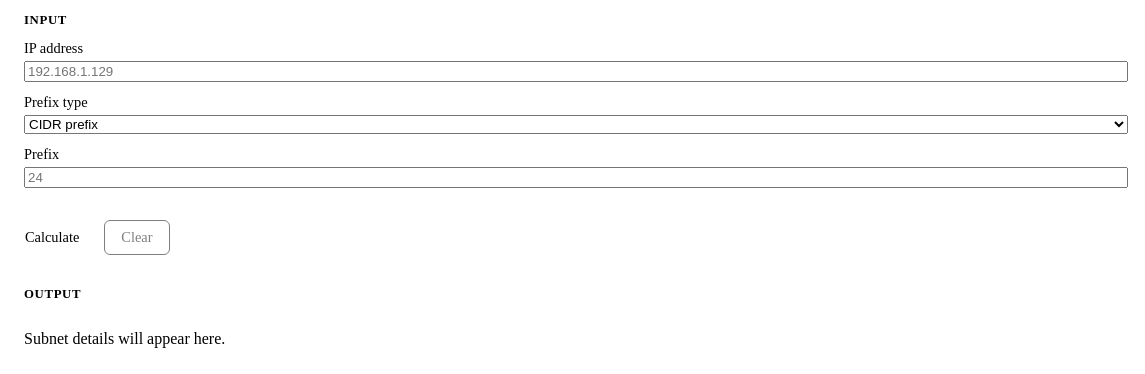
SubnetCalculatorTool › shows an error for a non-contiguous mask
Type "192.168.1.1" into the field labelled "IP address". click: (576, 72)
box: [24,61,1128,82]
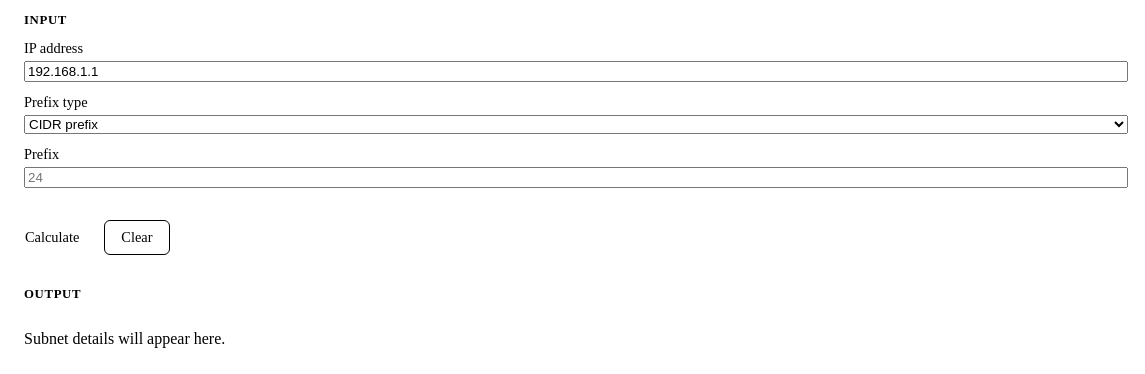
Select "Subnet mask" in the dropdown labelled "Prefix type". click: (576, 124)
box: [24,115,1128,134]
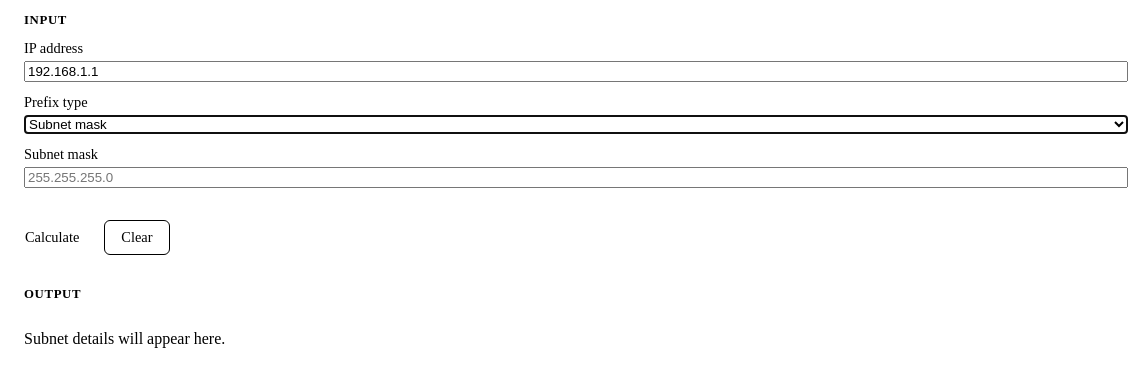
Type "255.255.255.1" into the field labelled "Subnet mask". click: (576, 178)
box: [24,167,1128,188]
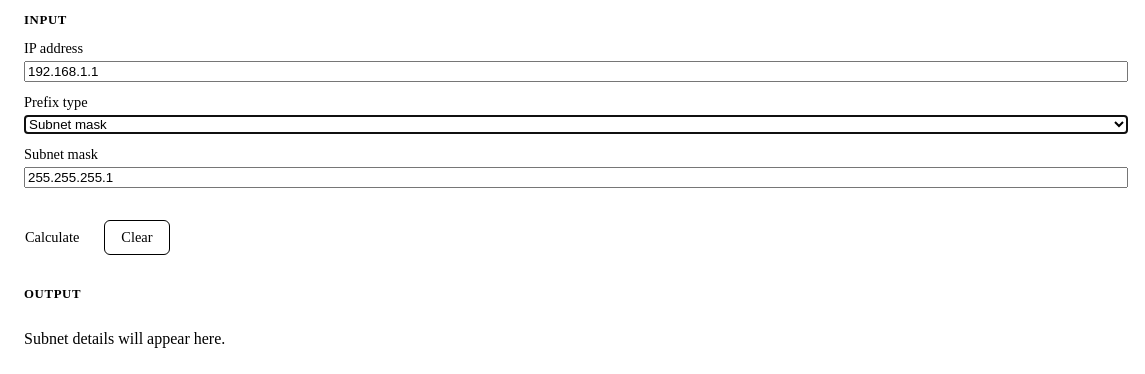
Click the button "Calculate". click: (52, 238)
box: [8,220,96,255]
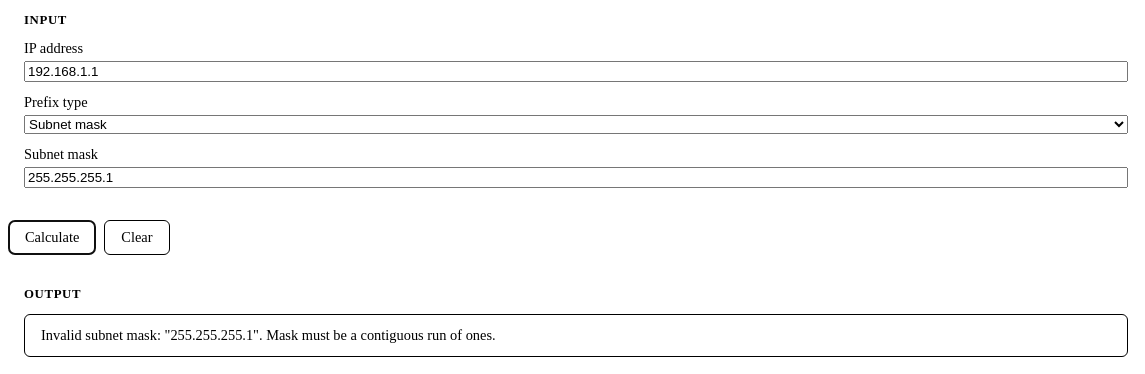
Now the message shows "contiguous", box [41,327,496,343]
